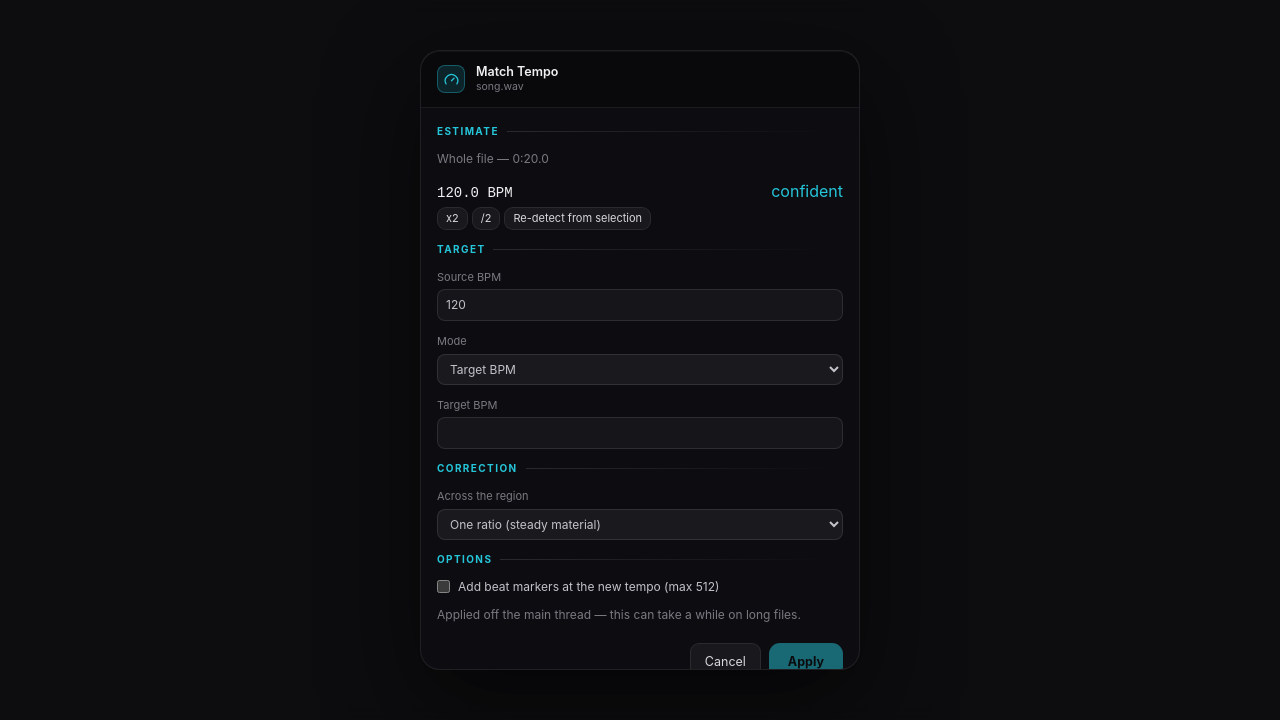
Test case: TempoDialog › 5. typing a target BPM updates tempo-summary ratio and both durations
Type "90" into the number field with test id "tempo-target" at (640,433), box [437,417,843,449]
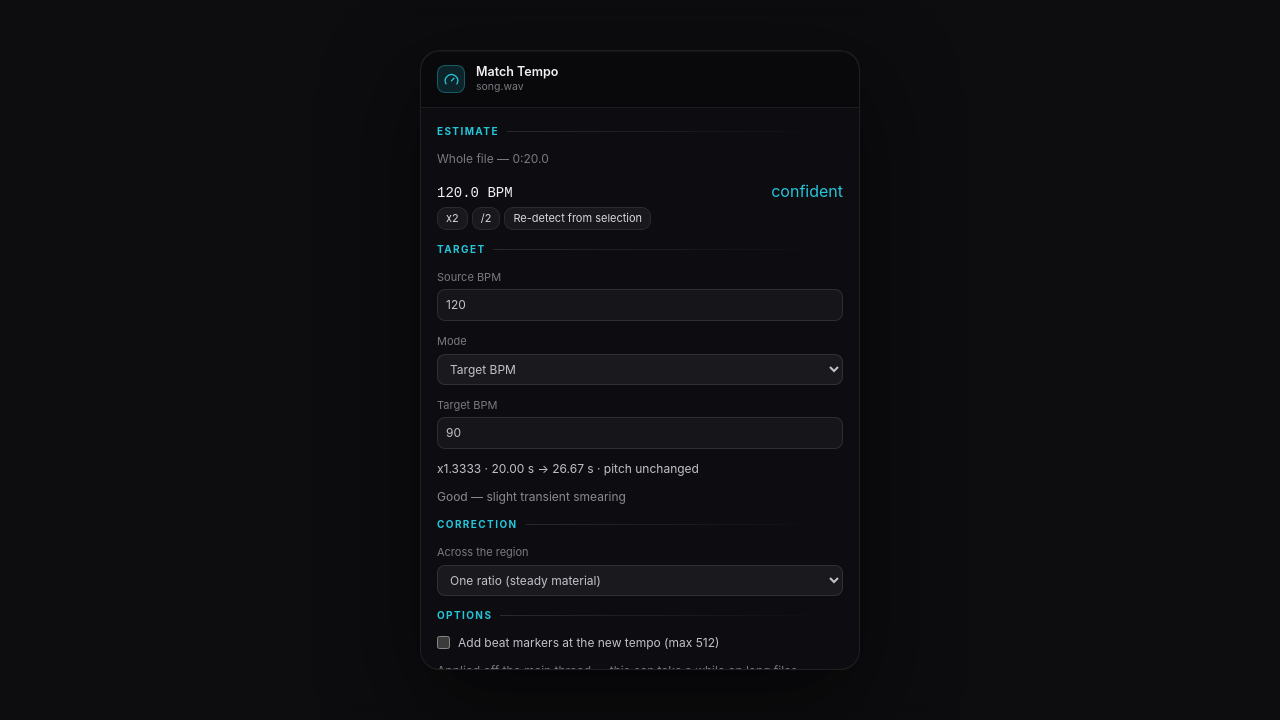
Expected: the text with test id "tempo-summary" shows "x1.3333", [437,461,699,476]
Expected: the text with test id "tempo-summary" shows "20.00 s", [437,461,699,476]
Expected: the text with test id "tempo-summary" shows "26.67 s", [437,461,699,476]
